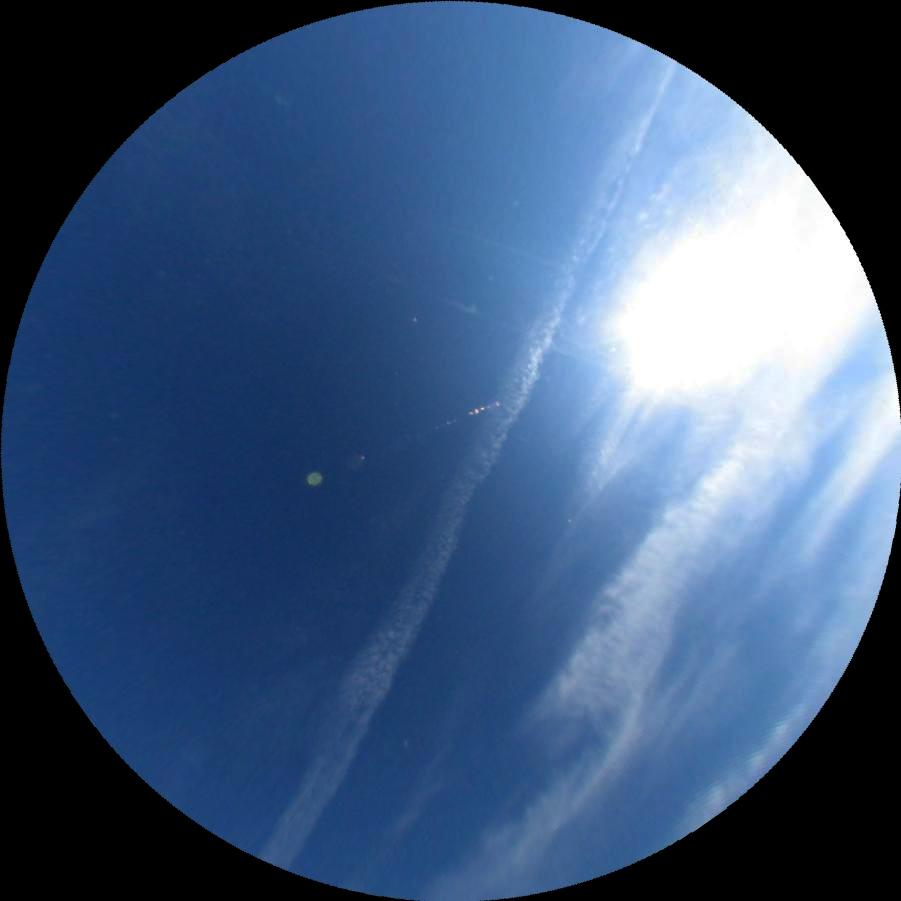contrail veryold: (250, 57, 704, 876)
sun: (602, 159, 874, 409)
unknow: (440, 287, 703, 410)
